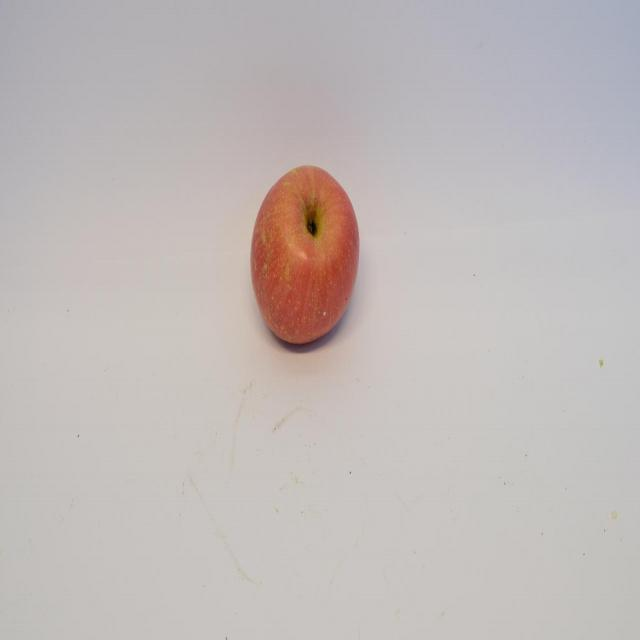apple: (242, 152, 364, 356)
